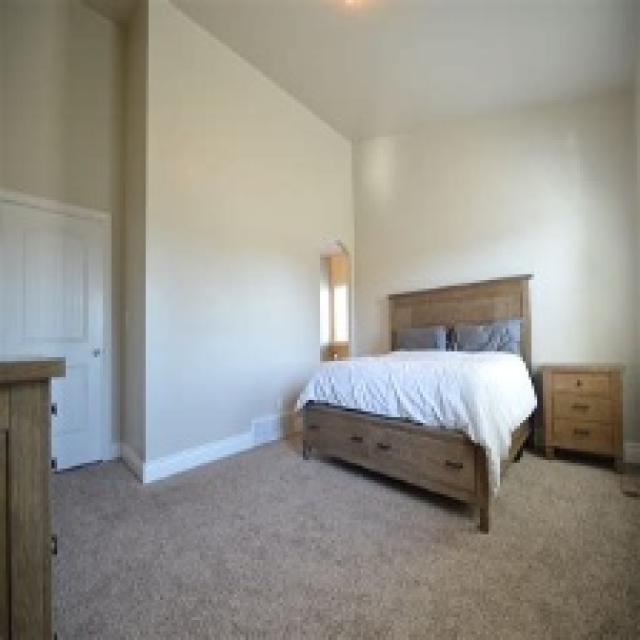Bed: (294, 272, 537, 532)
